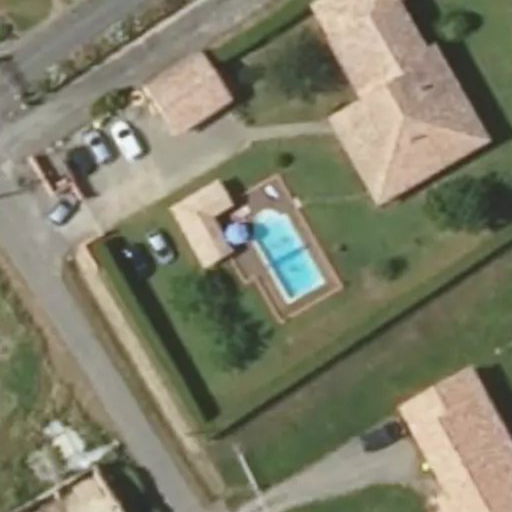pool: (242, 205, 326, 304)
